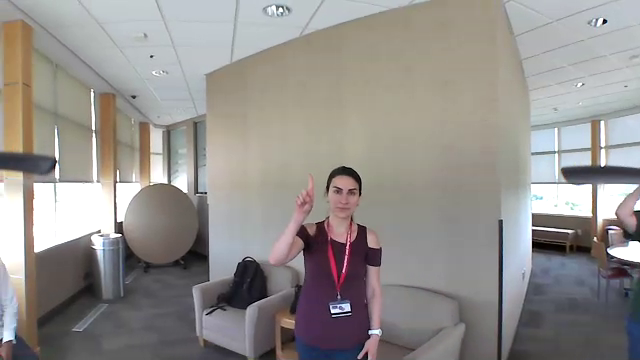up: (292, 166, 318, 221)
